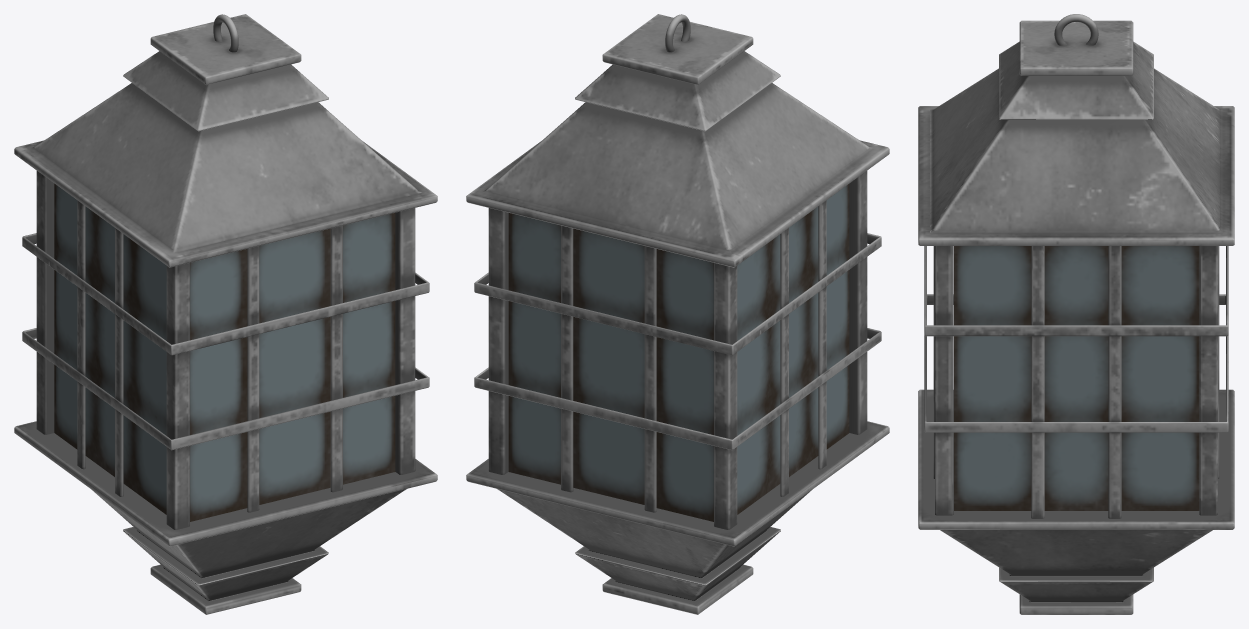
File: SM_MedievalLantern.fbx
The picture shows the model from 3 angles, left to right: view 1: azimuth 30°, elevation 25°; view 2: azimuth 150°, elevation 25°; view 3: azimuth 270°, elevation 25°; orthographic projection.
Parts seen in each view (by area): view 1: SM_MedievalLantern_LOD0; view 2: SM_MedievalLantern_LOD0; view 3: SM_MedievalLantern_LOD0.
Boxes of the visible parts, x1=… form: SM_MedievalLantern_LOD0: x1=14, y1=14, x2=437, y2=614; SM_MedievalLantern_LOD0: x1=466, y1=14, x2=889, y2=614; SM_MedievalLantern_LOD0: x1=918, y1=14, x2=1234, y2=614.
Size of the model in its own units: 28.12 by 28.12 by 56.59.
Materials: 2 (2 with a texture image).
